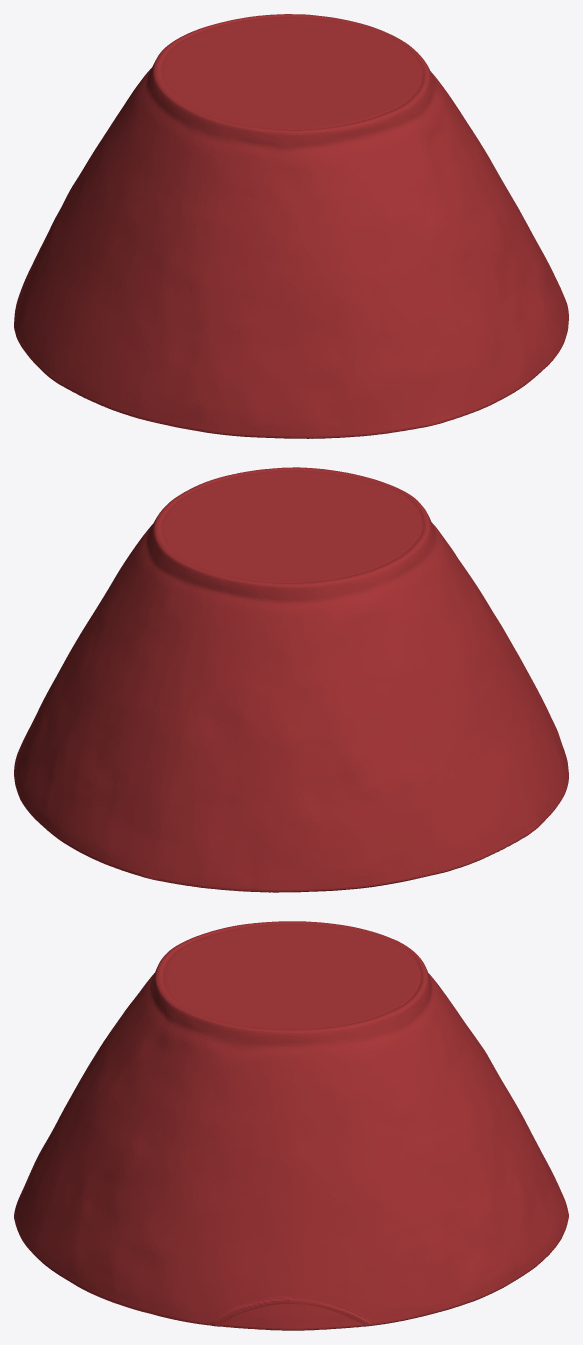
File: skirt.glb
3 renders of one model, top to bottom at view 1: azimuth 30°, elevation 25°; view 2: azimuth 150°, elevation 25°; view 3: azimuth 270°, elevation 25°, orthographic. The views are drawn at different scales.
Parts seen in each view (by area): view 1: geometry_0; view 2: geometry_0; view 3: geometry_0.
Boxes of the visible parts, <box> form: geometry_0: <box>14,14,568,438</box>; geometry_0: <box>14,467,568,892</box>; geometry_0: <box>14,921,568,1330</box>.
Bounding box in the file's own units: 0.5931 × 0.2941 × 0.611.
